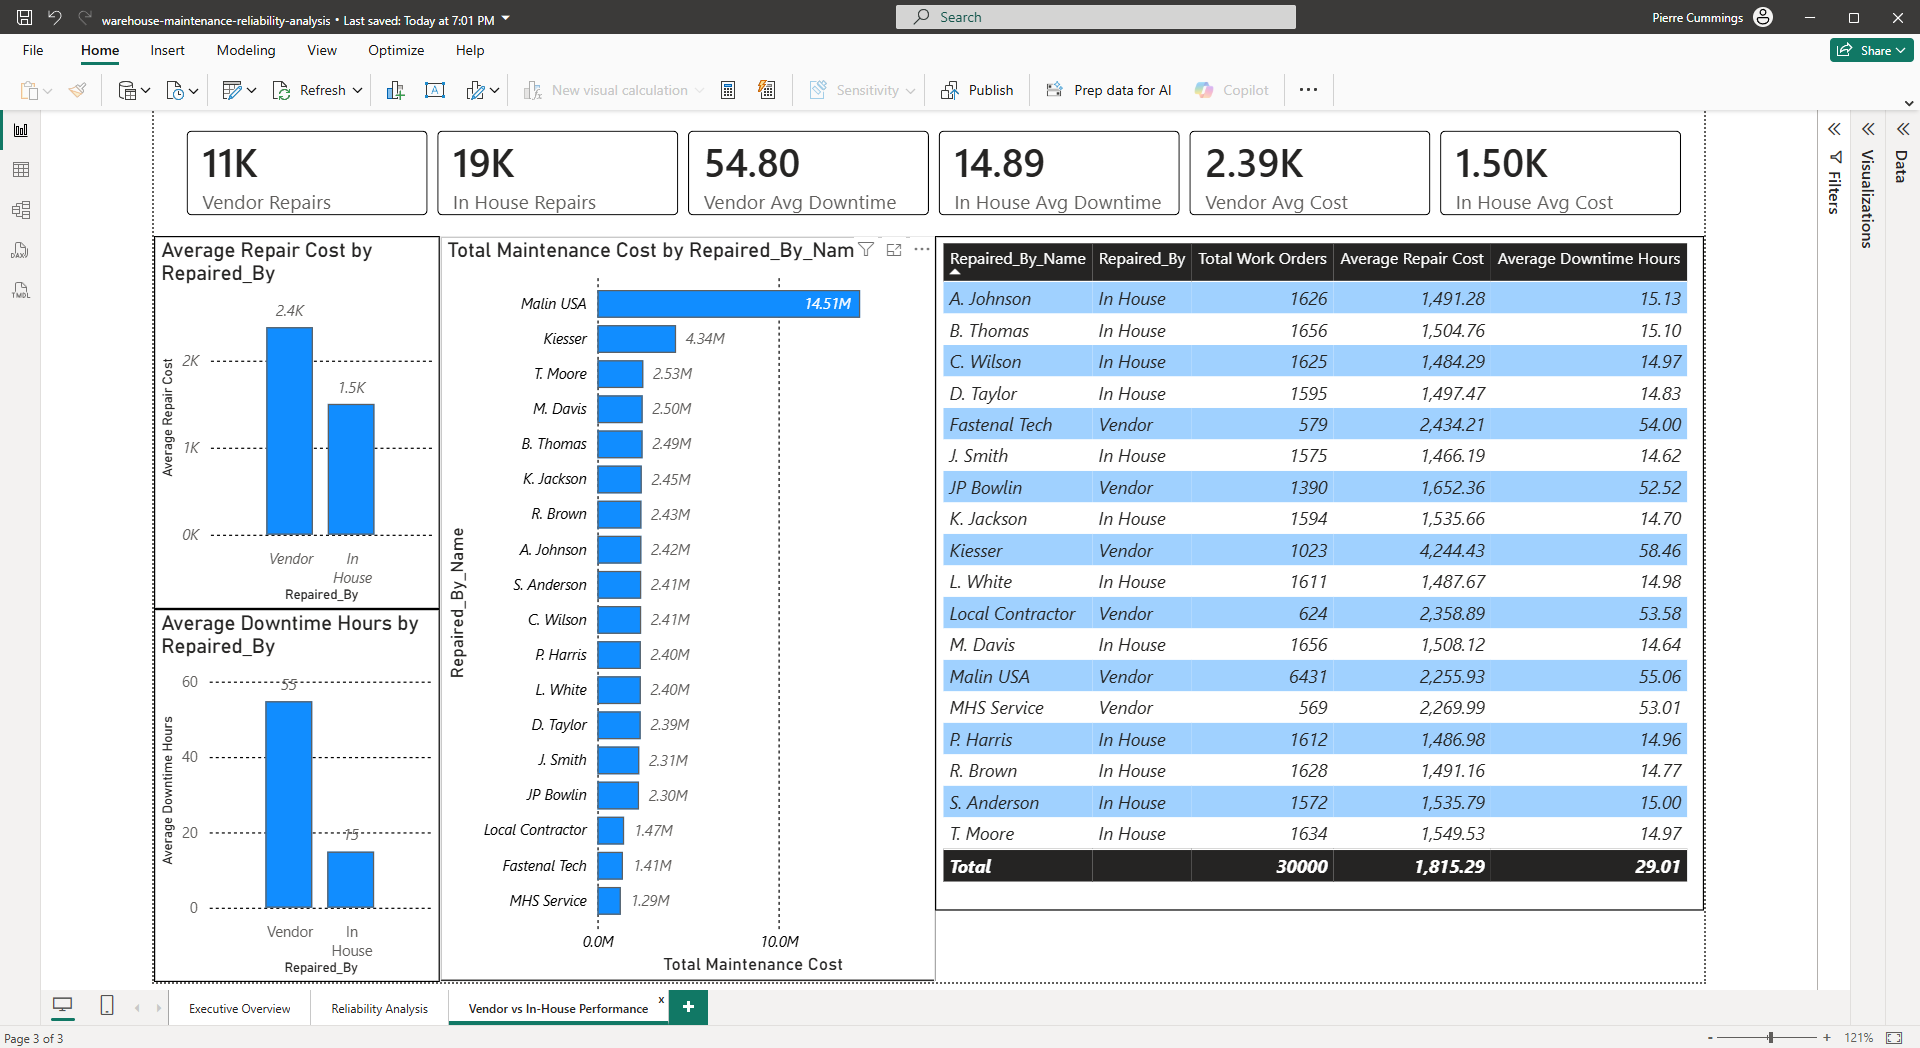

The dashboard page shown, as its layout file describes it:
{"tool":"powerbi","page":{"name":"Vendor vs In-House Performance","canvas":[1280,720],"ordinal":2},"visuals":[{"type":"cardVisual","fields":{"Data":["warehouse_operations_dataset_v2.Vendor Repairs","warehouse_operations_dataset_v2.In House Repairs","warehouse_operations_dataset_v2.Vendor Avg Downtime","warehouse_operations_dataset_v2.In House Avg Downtime","warehouse_operations_dataset_v2.Vendor Avg Cost","warehouse_operations_dataset_v2.In House Avg Cost"]},"box":[10.3,0,1269.7,104.4],"z":0},{"type":"clusteredColumnChart","fields":{"Category":["warehouse_operations_dataset_v2.Repaired_By"],"Y":["warehouse_operations_dataset_v2.Average Repair Cost"]},"box":[0,104.4,235.9,307.6],"z":1000},{"type":"clusteredColumnChart","fields":{"Category":["warehouse_operations_dataset_v2.Repaired_By"],"Y":["warehouse_operations_dataset_v2.Average Downtime Hours"]},"box":[0,412.1,235.9,307.6],"z":2000},{"type":"clusteredBarChart","fields":{"Category":["warehouse_operations_dataset_v2.Repaired_By_Name"],"Y":["warehouse_operations_dataset_v2.Total Maintenance Cost"]},"box":[235.9,104.4,409.3,615.3],"z":3000},{"type":"tableEx","fields":{"Values":["warehouse_operations_dataset_v2.Repaired_By_Name","warehouse_operations_dataset_v2.Repaired_By","warehouse_operations_dataset_v2.Total Work Orders","warehouse_operations_dataset_v2.Average Repair Cost","warehouse_operations_dataset_v2.Average Downtime Hours"]},"box":[645.1,104.4,634.9,557.5],"z":4000}]}

Visuals, with their boxes on the page's 1280x720 design canvas (x1, y1, x2, y2). These are canvas units, not pixel positions in the 1920x1048 screenshot, which may show the page scaled, cropped or inside an application window:
cardVisual - warehouse_operations_dataset_v2.Vendor Repairs x warehouse_operations_dataset_v2.In House Repairs: bbox=(10, 0, 1280, 104)
clusteredColumnChart - warehouse_operations_dataset_v2.Repaired_By x warehouse_operations_dataset_v2.Average Repair Cost: bbox=(0, 104, 236, 412)
clusteredColumnChart - warehouse_operations_dataset_v2.Repaired_By x warehouse_operations_dataset_v2.Average Downtime Hours: bbox=(0, 412, 236, 720)
clusteredBarChart - warehouse_operations_dataset_v2.Repaired_By_Name x warehouse_operations_dataset_v2.Total Maintenance Cost: bbox=(236, 104, 645, 720)
tableEx - warehouse_operations_dataset_v2.Repaired_By_Name x warehouse_operations_dataset_v2.Repaired_By: bbox=(645, 104, 1280, 662)
